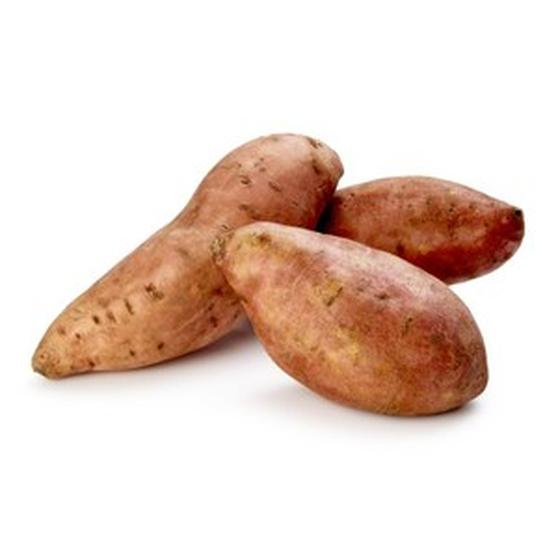potato: (210, 224, 491, 416)
